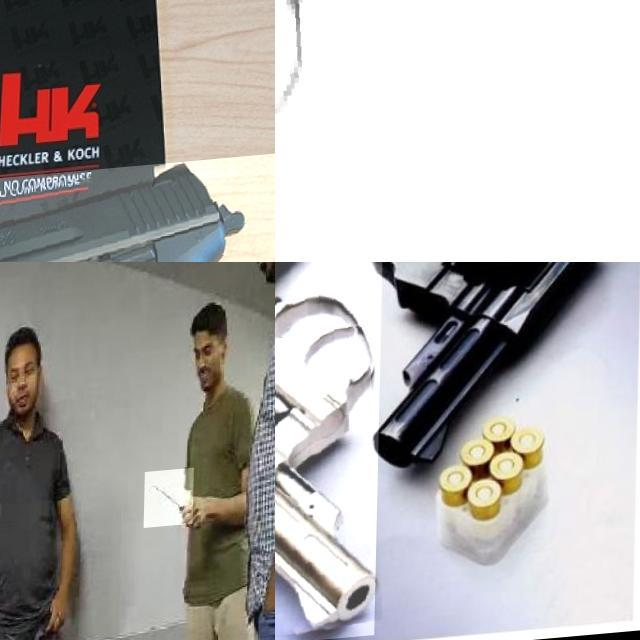-: (146, 474, 196, 534)
gun-knife-thesis - v11 Yolov5 augmented: (275, 0, 640, 262), (366, 262, 637, 478), (275, 262, 425, 640), (0, 161, 275, 262)
